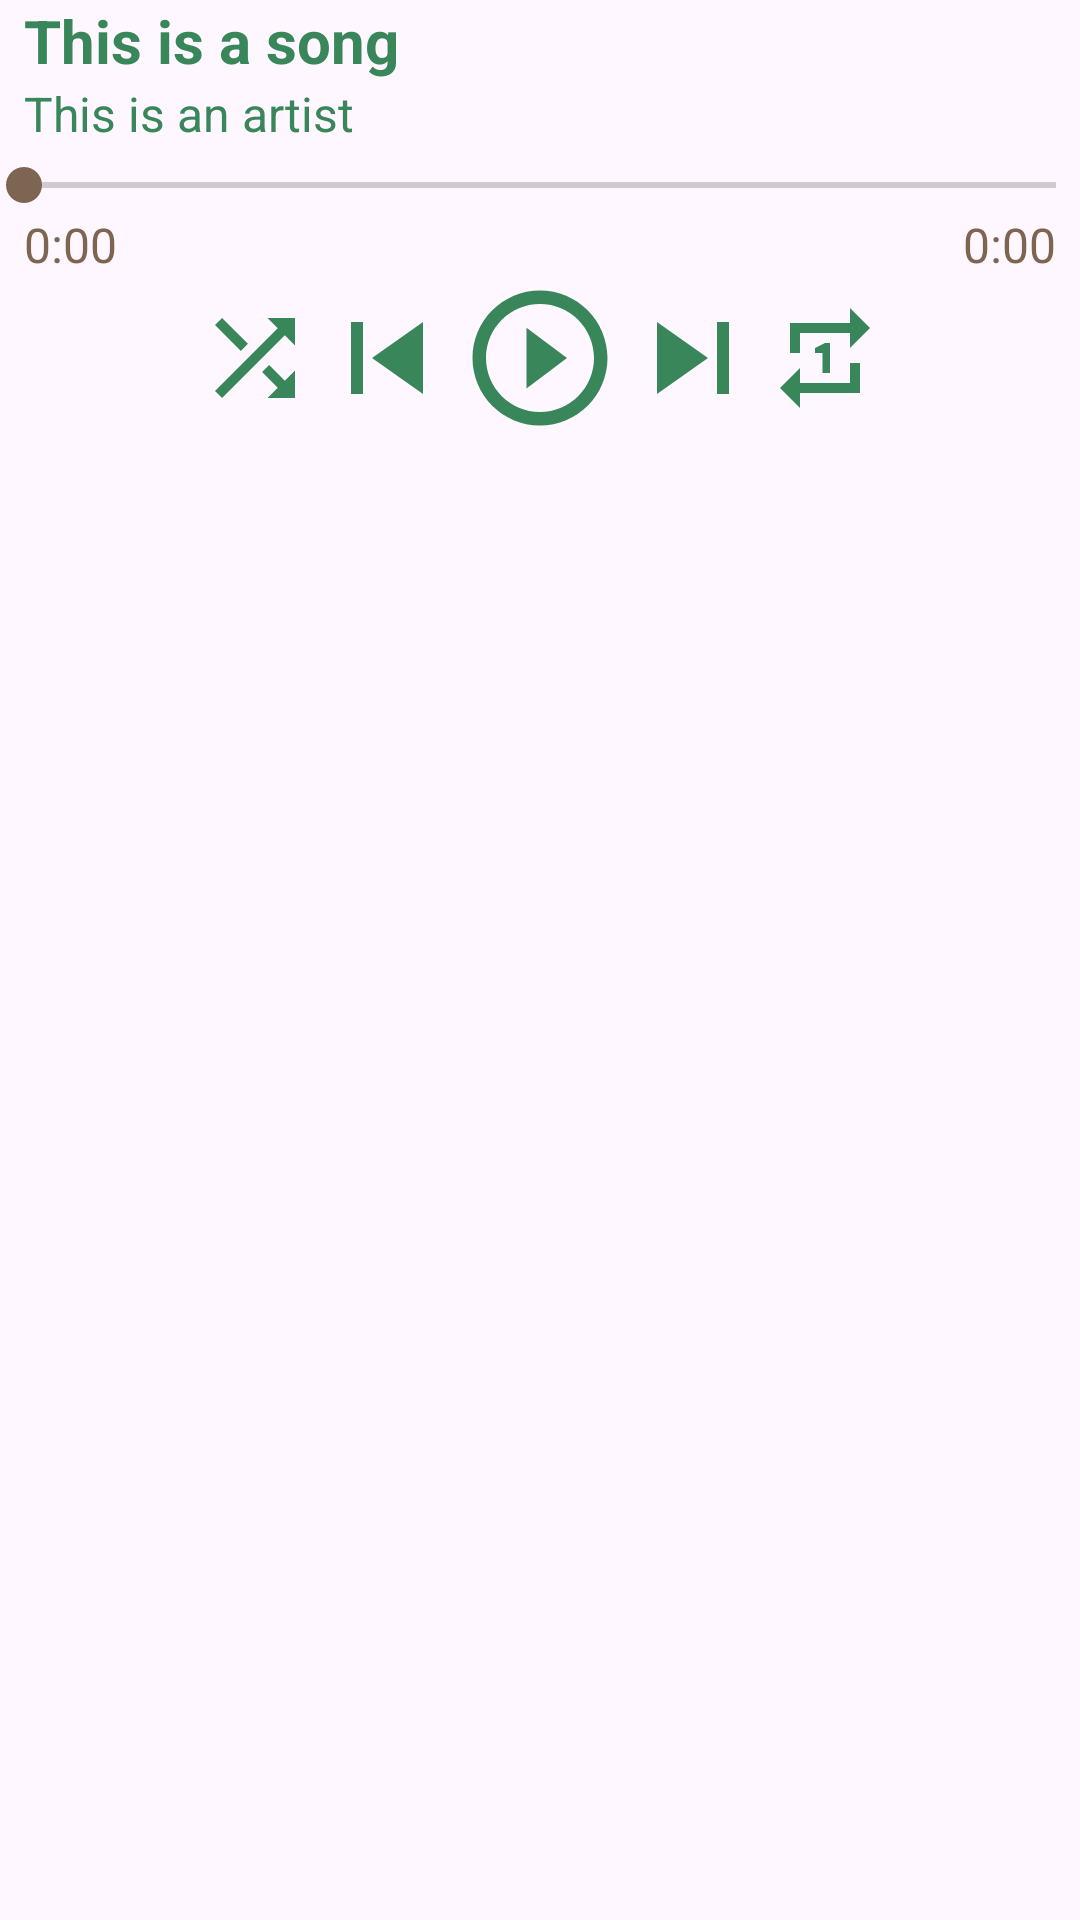

Where to tap for icons on this 1080 × 1920 app screen, as (x,y):
play circle: (540,358)
repeat one: (825,358)
shuffle: (255,358)
skip next: (693,358)
skip previous: (387,358)
